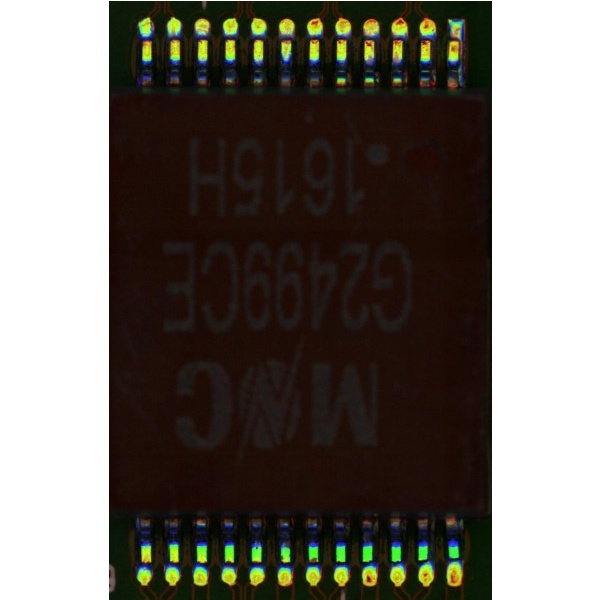Bad_podu: (451, 30, 460, 46)
Bad_qiaojiao: (459, 40, 463, 78)
